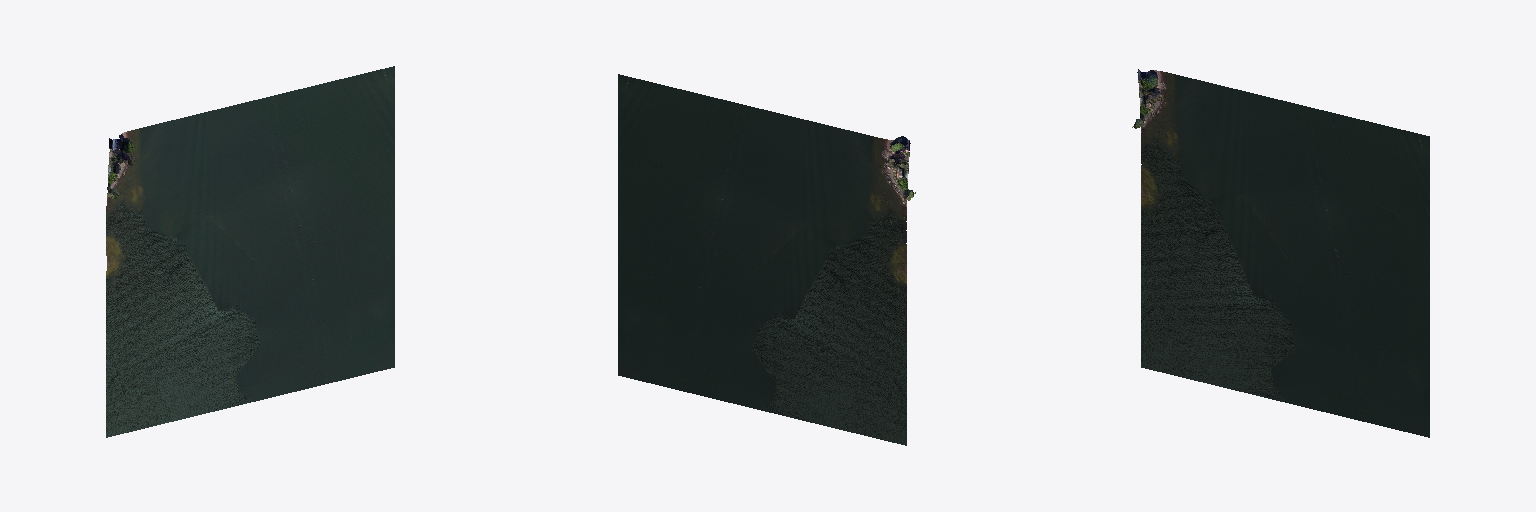
3 views of the same model, side by side, from view 1: azimuth 30°, elevation 25°; view 2: azimuth 150°, elevation 25°; view 3: azimuth 330°, elevation 25° (orthographic).
Size of the model in its own units: 252 by 252 by 17.28.
Materials: 2 (1 with a texture image).